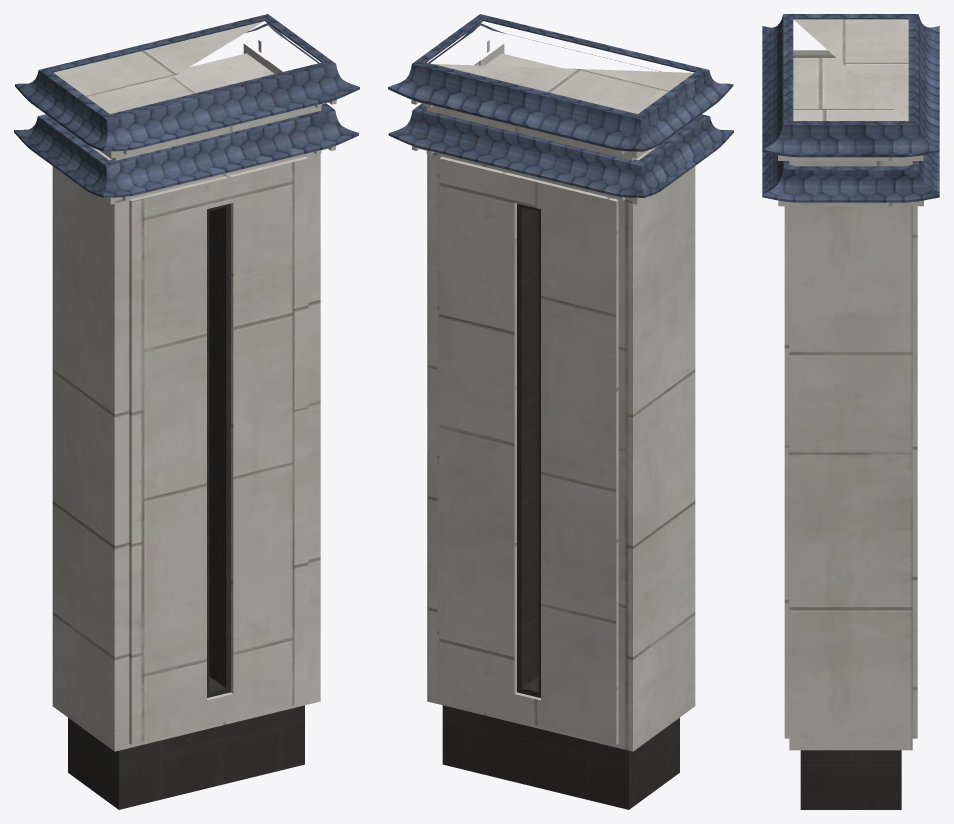
Rendered from KB3D_NEC_BldgMD_C_BuildingA.glb.
The picture shows the model from 3 angles, left to right: view 1: azimuth 30°, elevation 25°; view 2: azimuth 150°, elevation 25°; view 3: azimuth 270°, elevation 25°; orthographic projection.
Parts seen in each view (by area): view 1: KB3D_NEC_BldgMD_C_BuildingA; view 2: KB3D_NEC_BldgMD_C_BuildingA; view 3: KB3D_NEC_BldgMD_C_BuildingA.
Part boxes in pixels (<box>): KB3D_NEC_BldgMD_C_BuildingA: <box>14,14,359,809</box>; KB3D_NEC_BldgMD_C_BuildingA: <box>388,14,733,809</box>; KB3D_NEC_BldgMD_C_BuildingA: <box>762,14,939,809</box>.
Bounding box in the file's own units: 5.88 × 15.38 × 3.55.
Materials: 3 (3 with a texture image).
